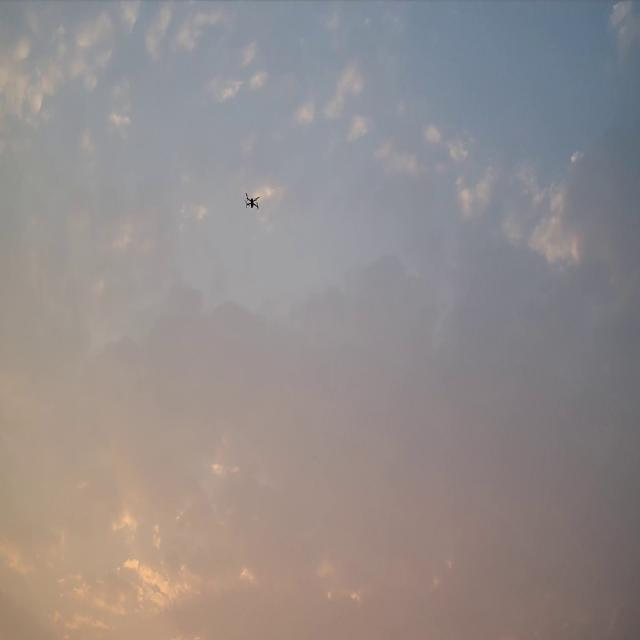UAV: (244, 192, 260, 210)
